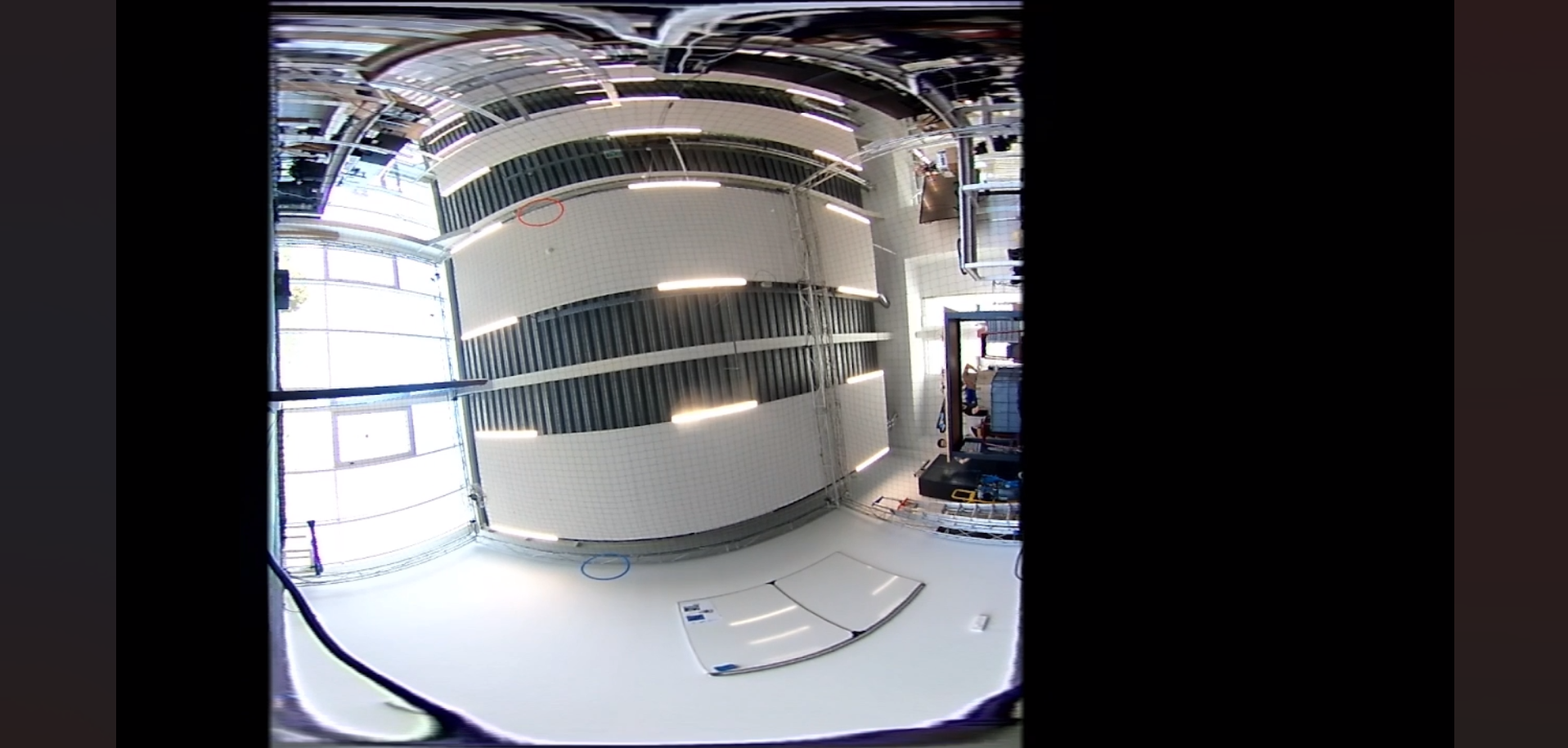Drone: (459, 481, 490, 514)
